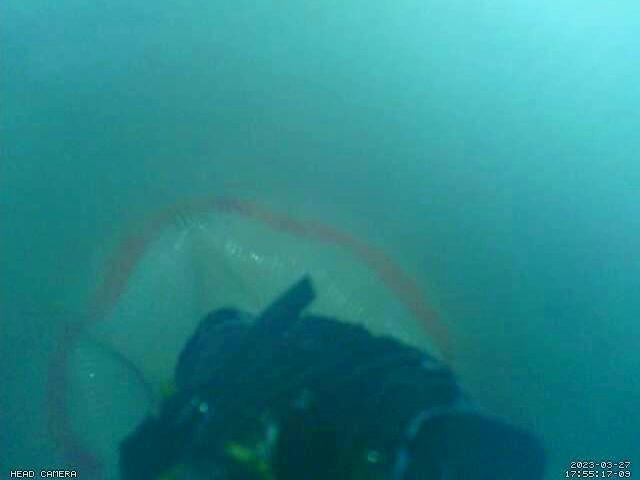head: (44, 194, 455, 480)
